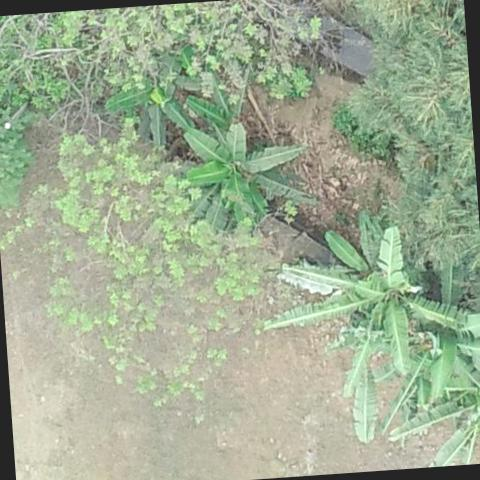Banana-plant: (255, 198, 480, 405), (178, 115, 315, 242), (361, 302, 480, 438), (382, 379, 480, 470), (102, 73, 203, 153)
